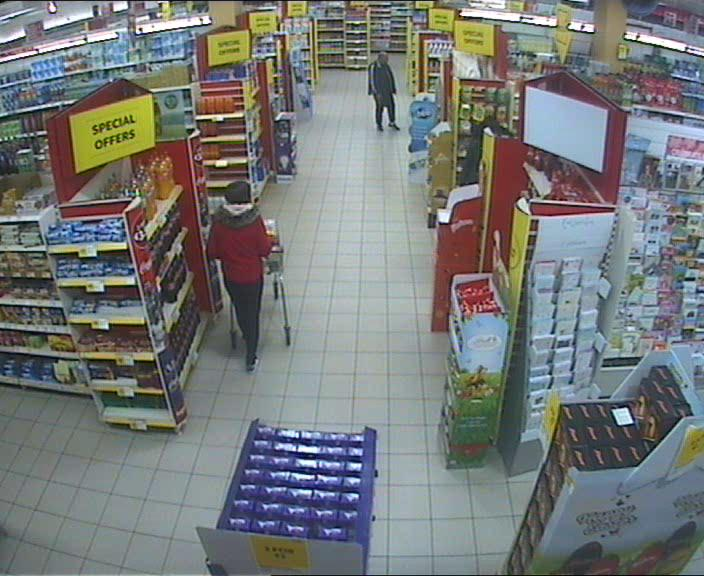filled-trolly: (228, 219, 292, 347)
person: (207, 180, 269, 370)
person-with-filled-basket-trolly: (206, 179, 294, 375)
